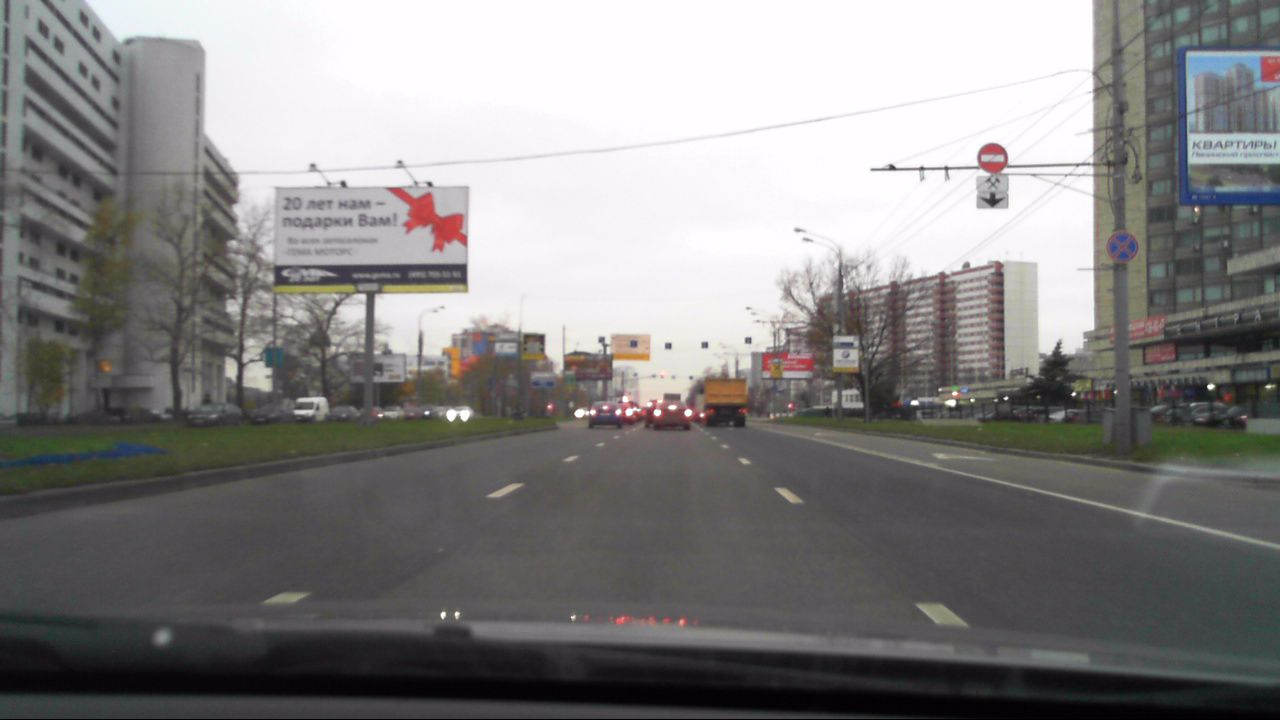No Parking: (1103, 231, 1139, 265)
